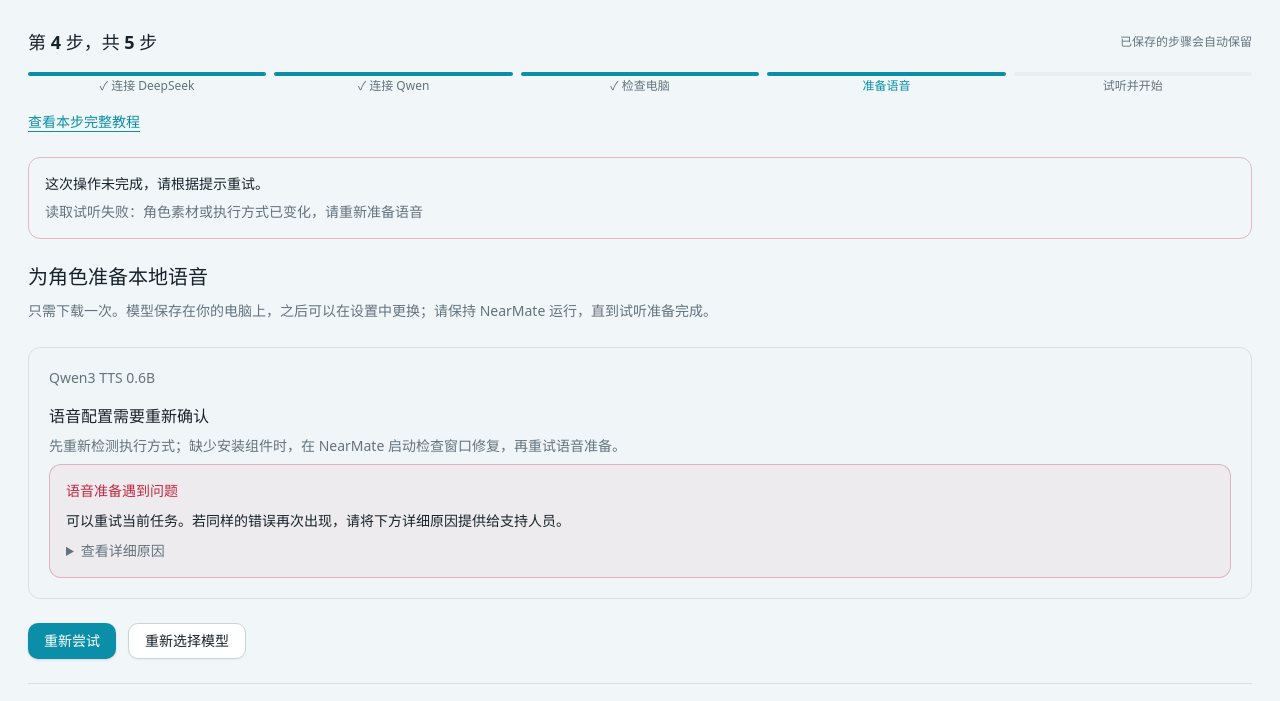
Test: 首次引导的资格失效恢复 › preview 拒绝旧试听后刷新真实状态，返回模型步骤并允许重试
This screenshot has width=1280, height=701.
Expected: the text "语音配置需要重新确认" is shown, x1=49 y1=405 x2=209 y2=427
Expected: the button "重新选择模型" is shown, x1=128 y1=623 x2=246 y2=659
Click the button "重新尝试": click(72, 641) x1=28 y1=623 x2=116 y2=659
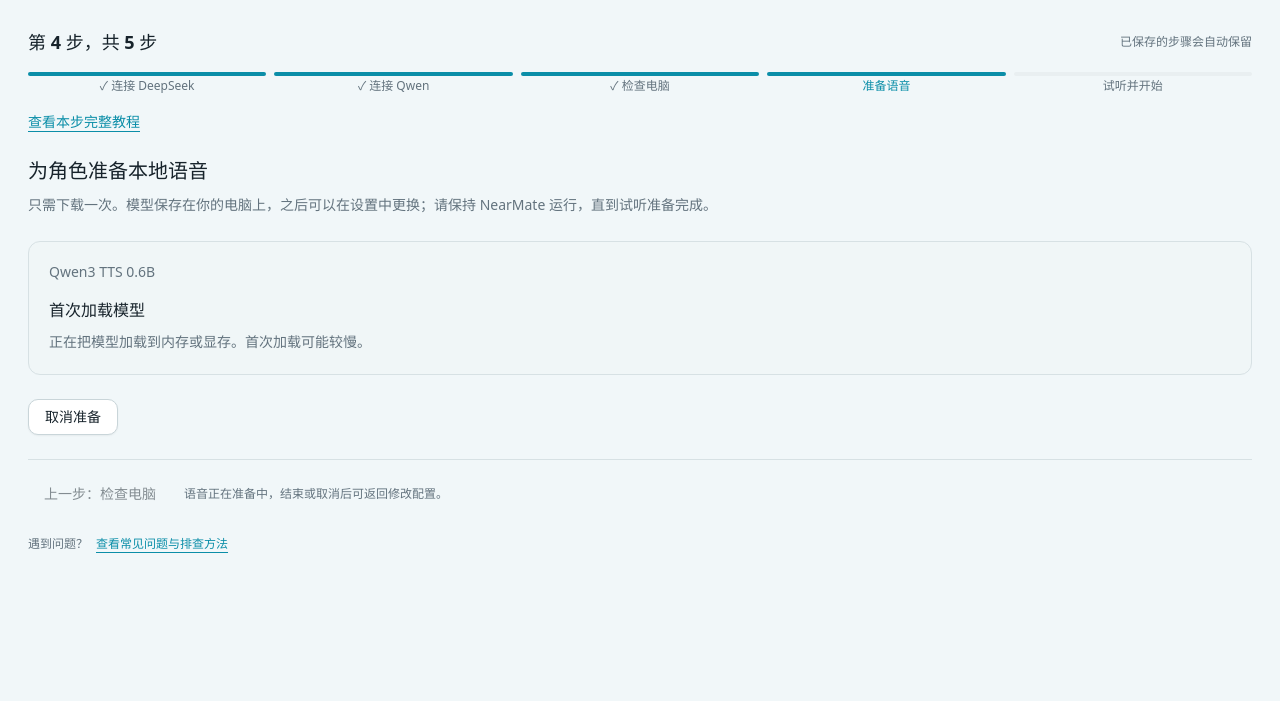
Expected: the text "首次加载模型" is shown, x1=49 y1=299 x2=145 y2=321
